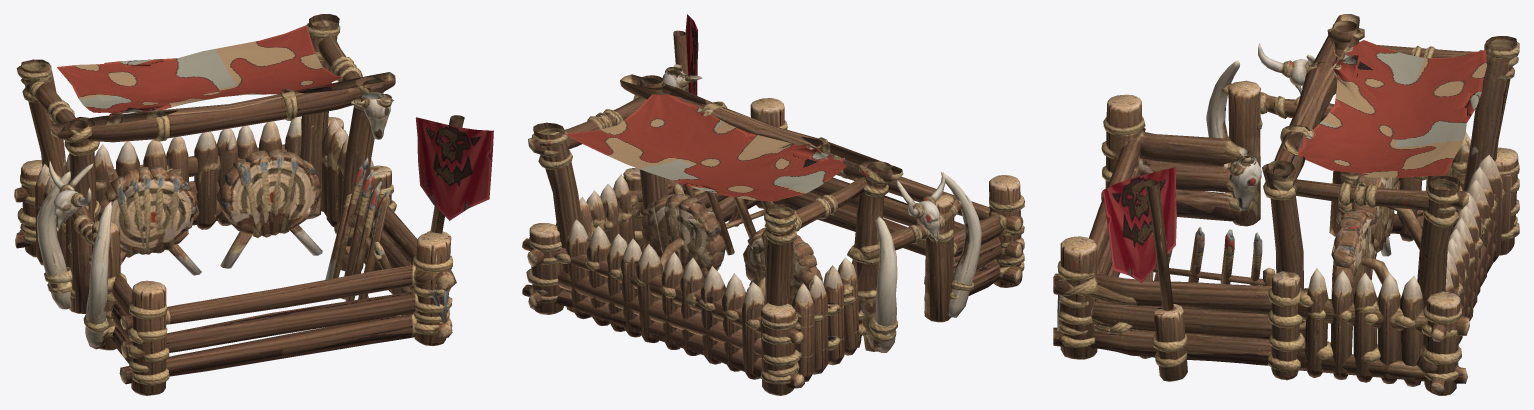
File: campo-de-jabalinas_e3.glb
The picture shows the model from 3 angles, left to right: view 1: azimuth 30°, elevation 25°; view 2: azimuth 150°, elevation 25°; view 3: azimuth 270°, elevation 25°; orthographic projection. The views are drawn at different scales.
Bounding box in the file's own units: 8 × 3.91 × 8.
Materials: 1 (1 with a texture image).
